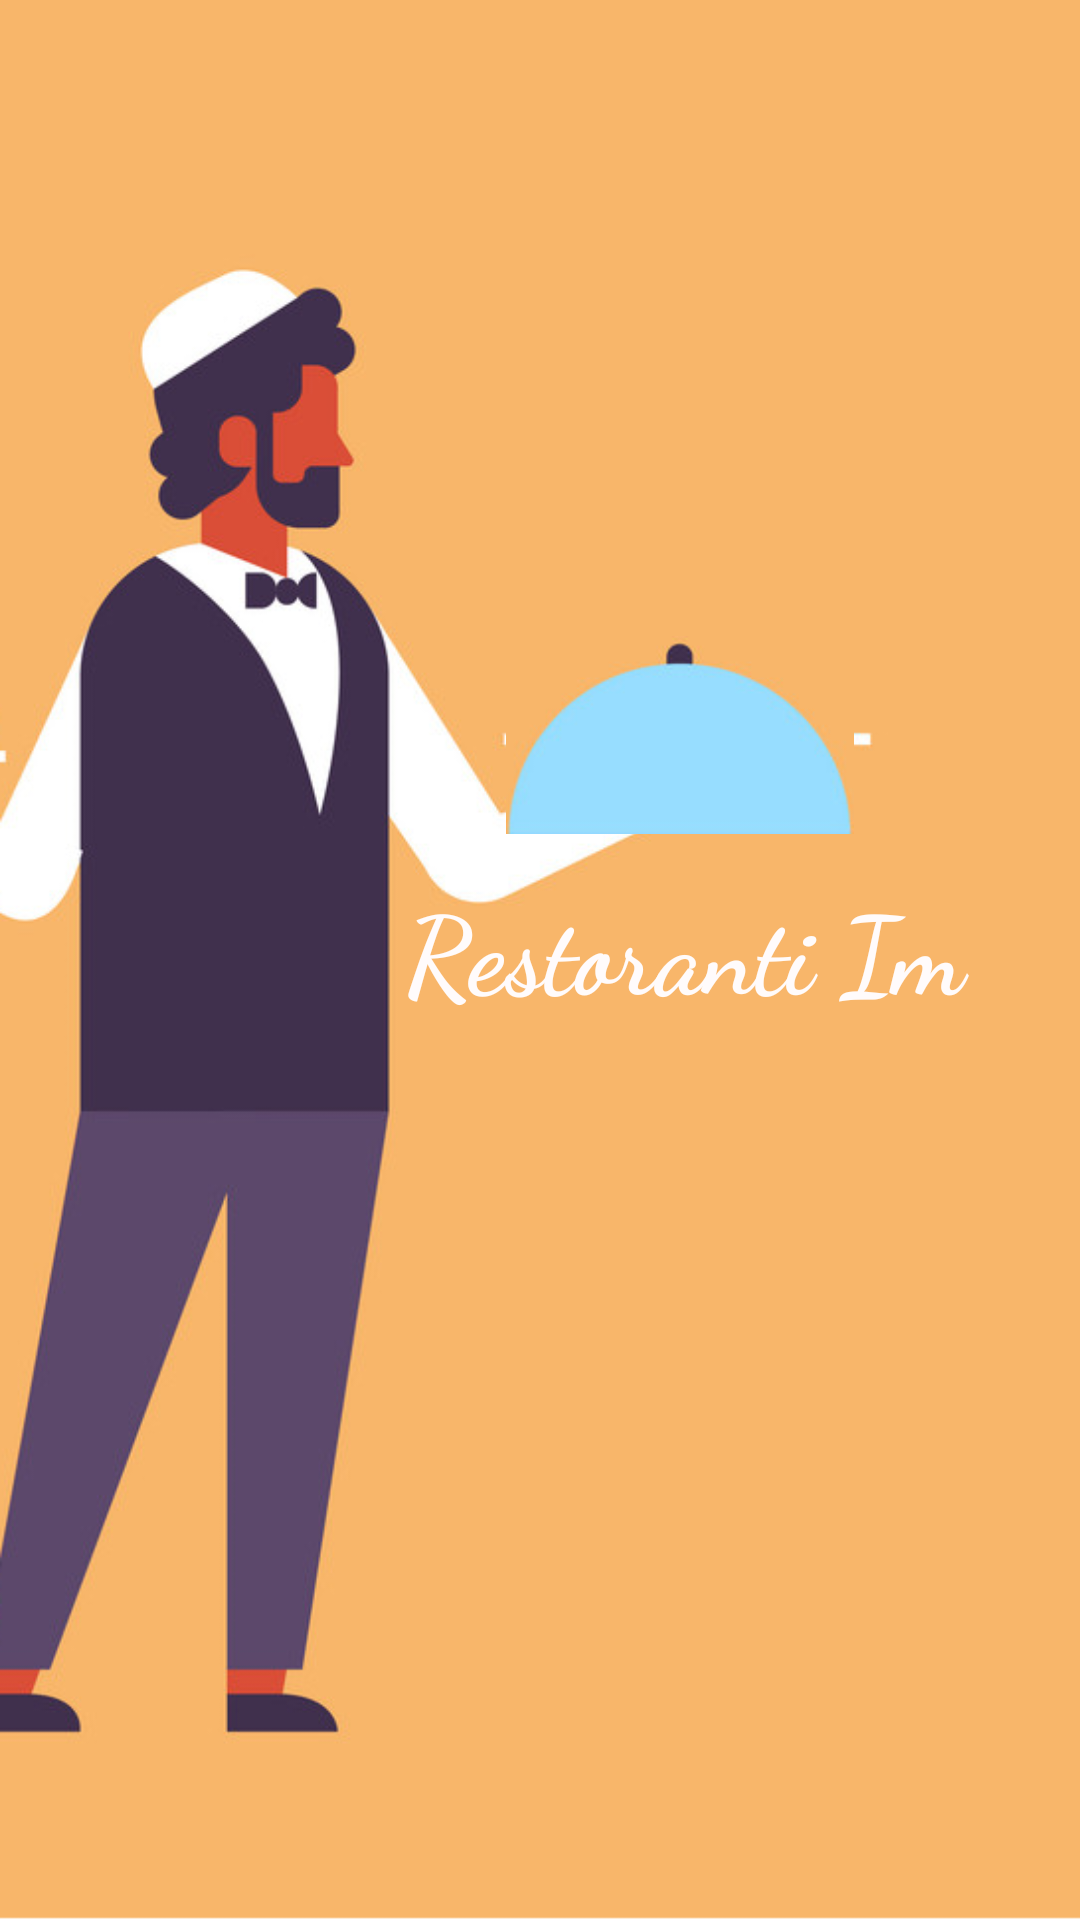

Where to tap for icons on this 1080px×1920px app screen, as (x,y):
plate: (679,738)
